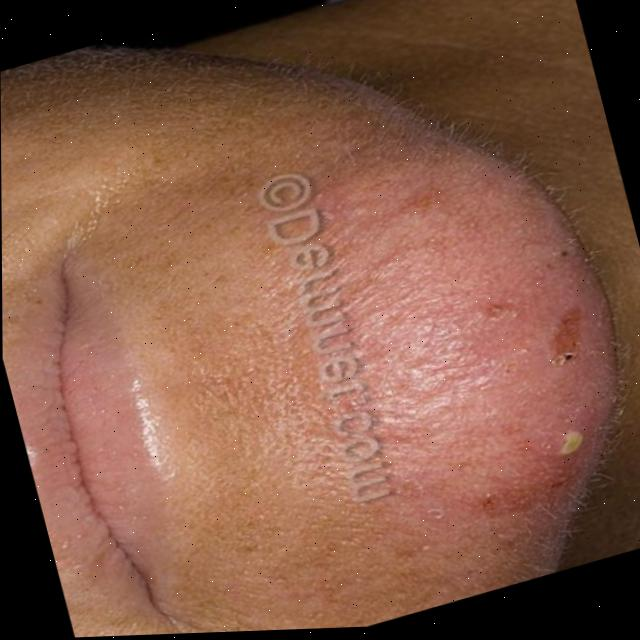Rosacea: (311, 136, 609, 523)
